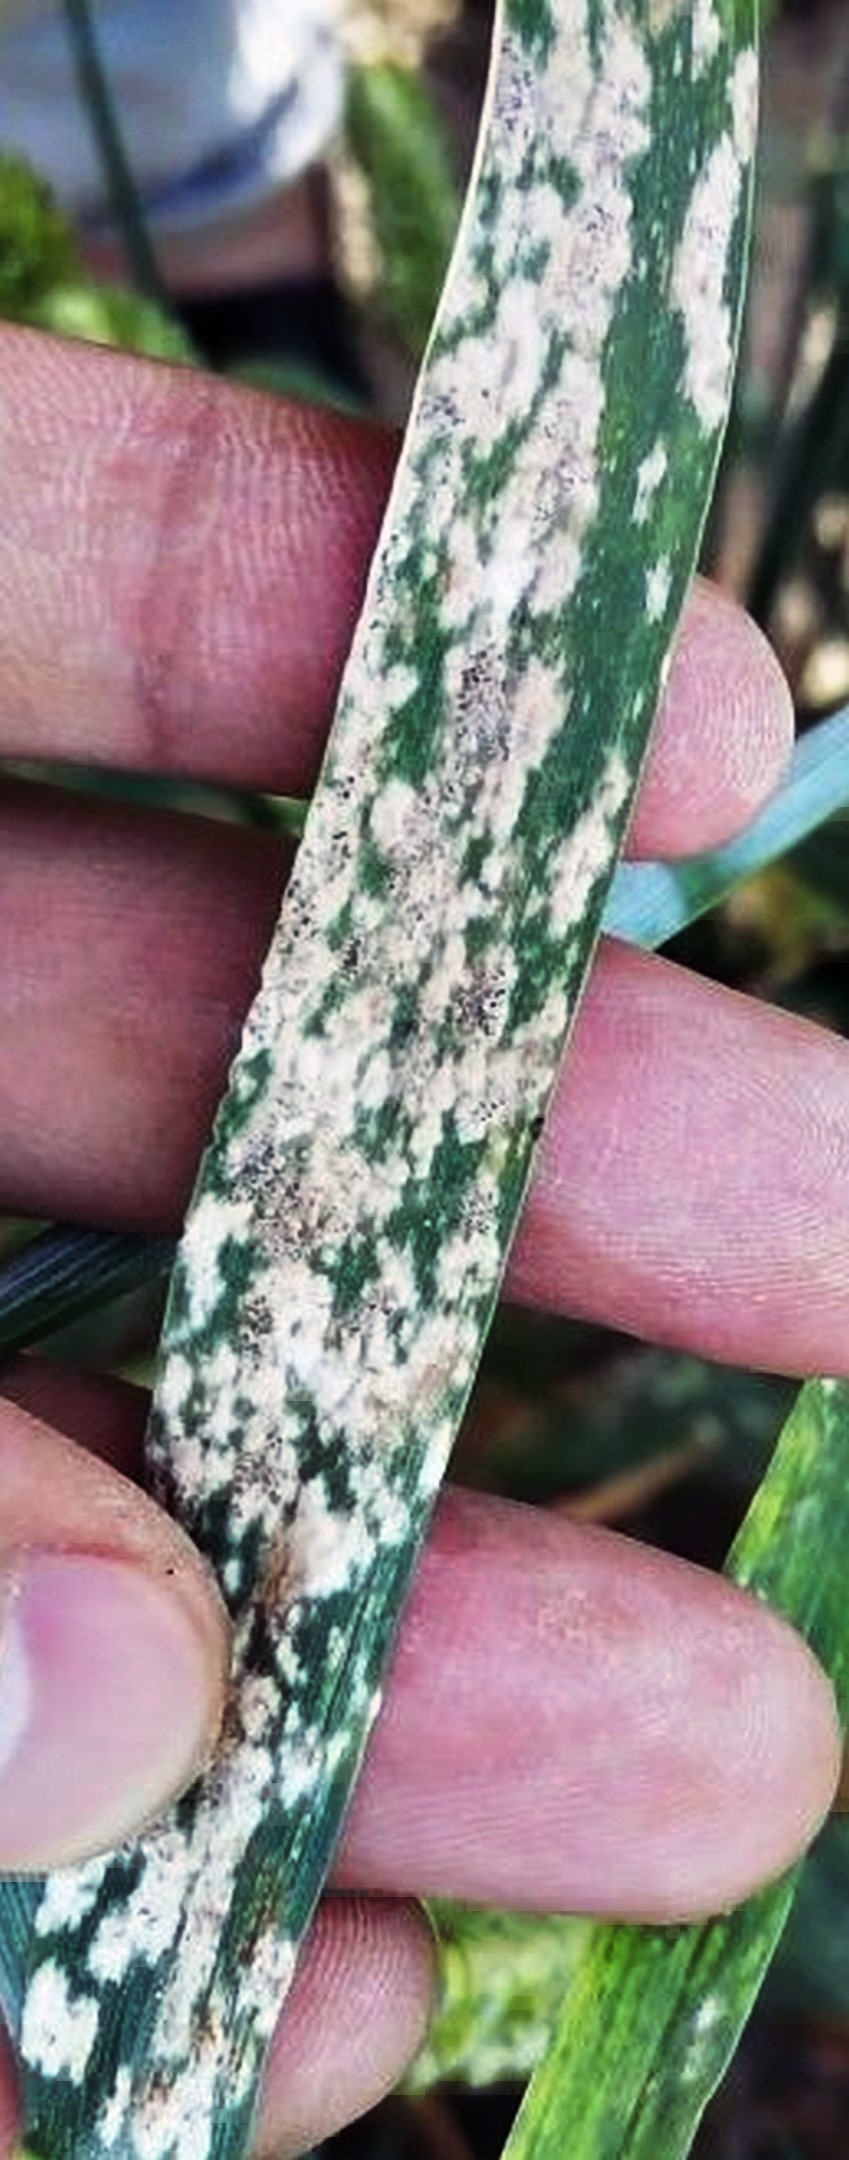Powdery Mildew: (172, 54, 830, 1552)
